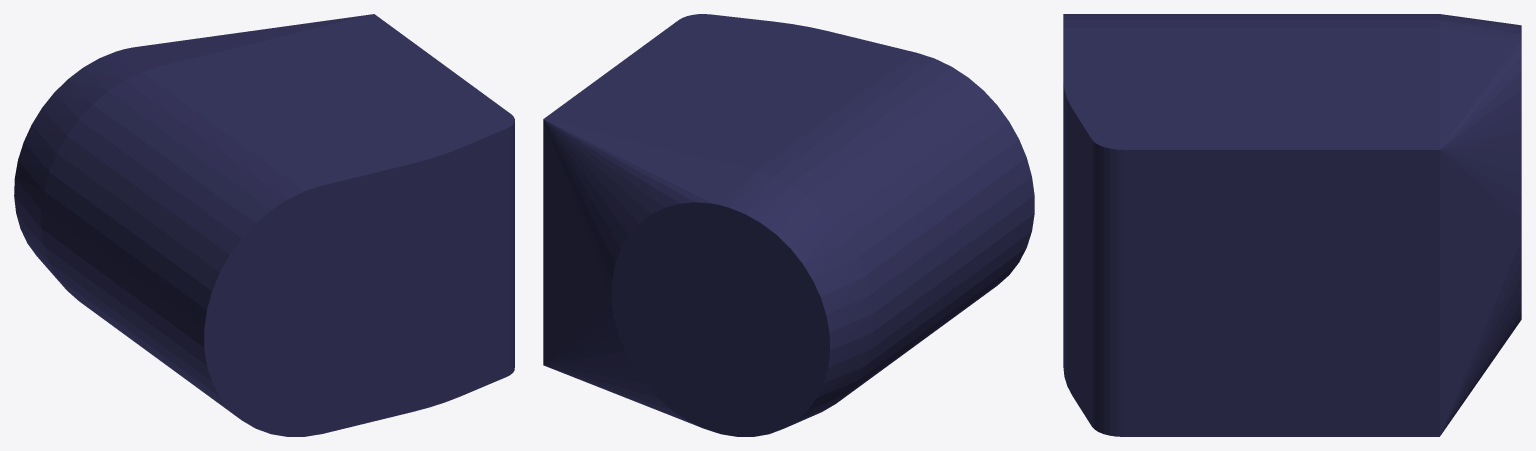
3 views of the same model, side by side, from view 1: azimuth 30°, elevation 25°; view 2: azimuth 150°, elevation 25°; view 3: azimuth 270°, elevation 25° (orthographic). The views are drawn at different scales.
Visible parts, largest first — view 1: link_0; view 2: link_0; view 3: link_0.
Boxes of the visible parts, <box> form: link_0: <box>14,14,514,436</box>; link_0: <box>543,14,1034,436</box>; link_0: <box>1063,14,1521,436</box>.
Bounding box in the file's own units: 0.0431 × 0.0444 × 0.0307.
